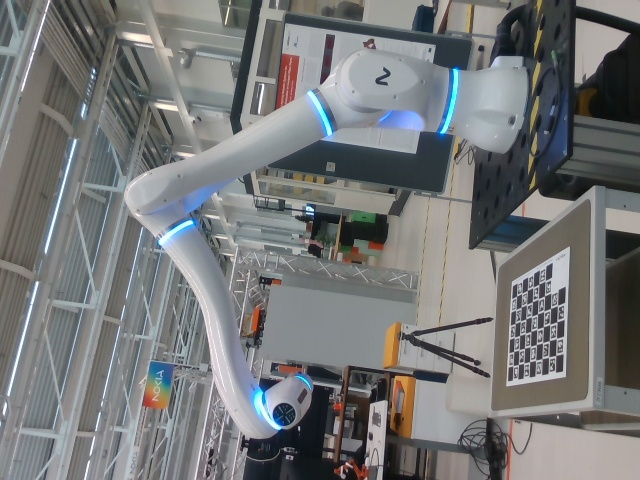Robot arm: (123, 54, 530, 438)
